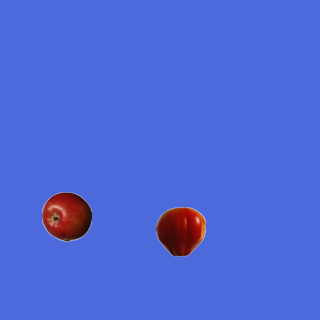Apple Braeburn: (41, 191, 91, 241)
Tomato 1: (155, 206, 205, 256)
